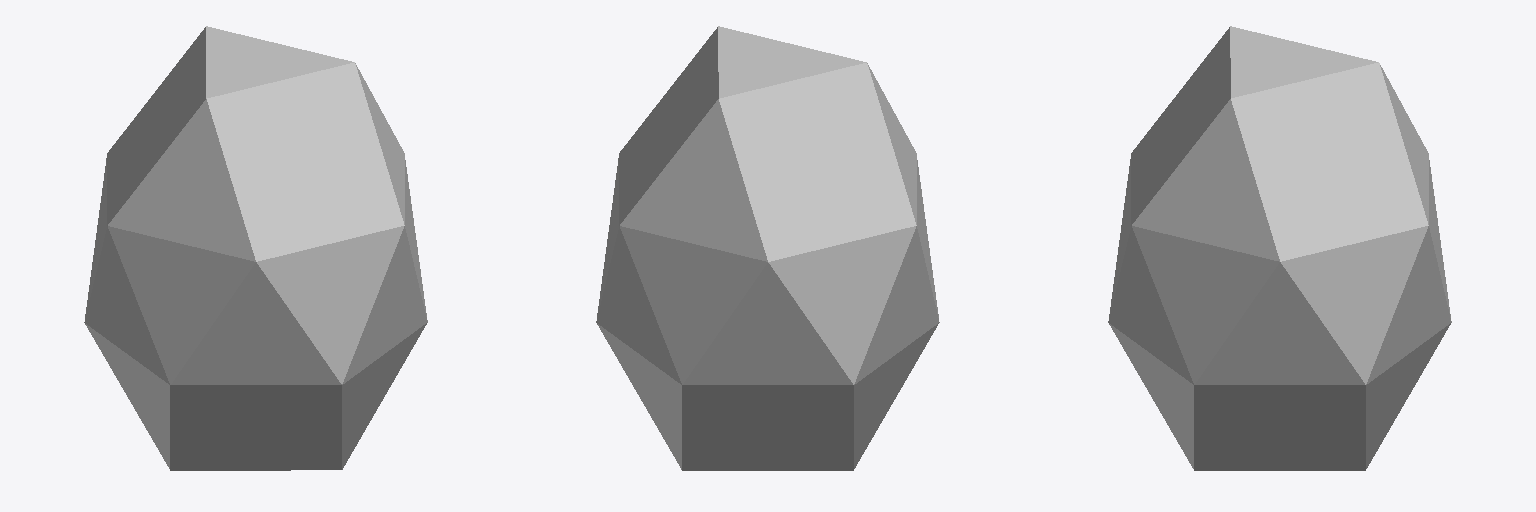
The model's file is GyroElongatedTriangularBiCupola.obj.
3 views of the same model, side by side, from view 1: azimuth 30°, elevation 25°; view 2: azimuth 150°, elevation 25°; view 3: azimuth 270°, elevation 25° (orthographic).
Visible parts, largest first — view 1: GyroElongatedTriangularBiCupola; view 2: GyroElongatedTriangularBiCupola; view 3: GyroElongatedTriangularBiCupola.
Part boxes in pixels (x1,y1,x2,y2): GyroElongatedTriangularBiCupola: (84,26,427,470); GyroElongatedTriangularBiCupola: (596,26,939,470); GyroElongatedTriangularBiCupola: (1108,26,1451,470).
Bounding box in the file's own units: 1.5 × 1.87 × 1.5.